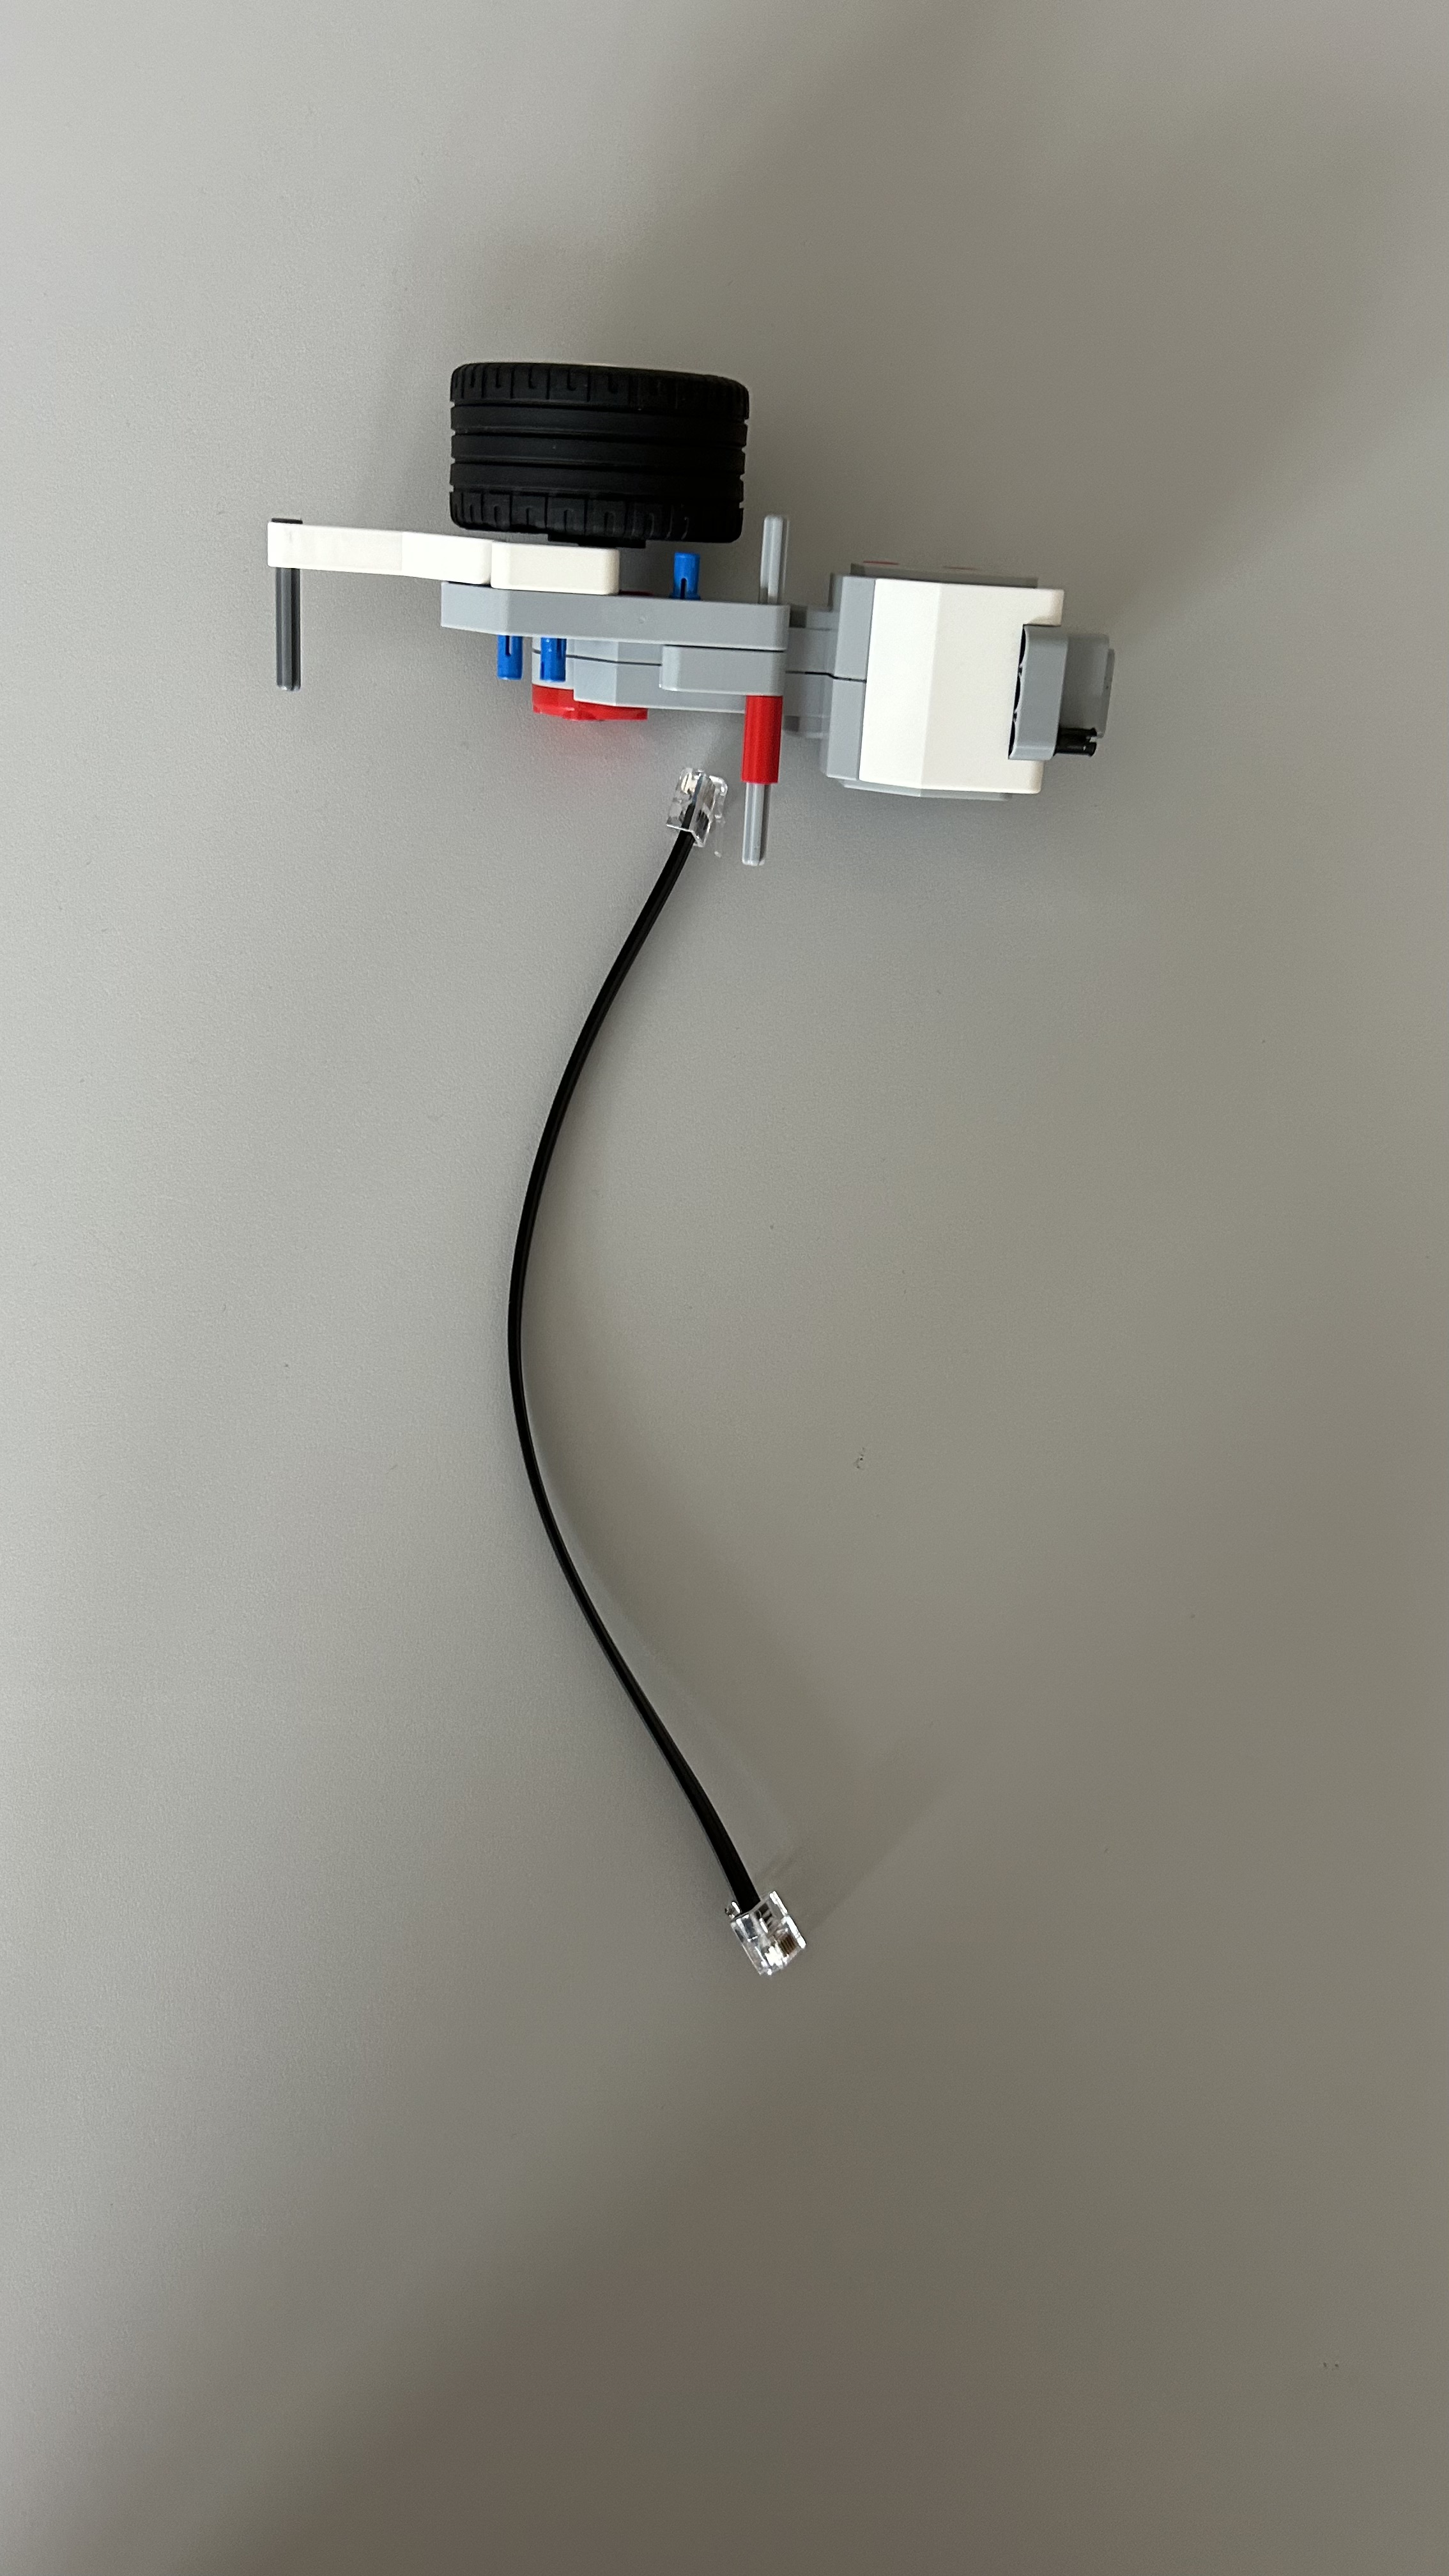grey1: (207, 345, 1141, 856)
